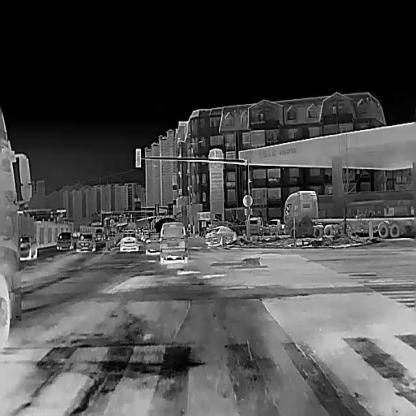car: (0, 102, 34, 354), (281, 187, 415, 239), (159, 220, 190, 262), (204, 223, 238, 247), (18, 232, 39, 261), (244, 216, 272, 237), (76, 230, 97, 253), (119, 231, 140, 253), (145, 231, 161, 256), (267, 217, 287, 236), (55, 230, 74, 249), (92, 231, 105, 243)
